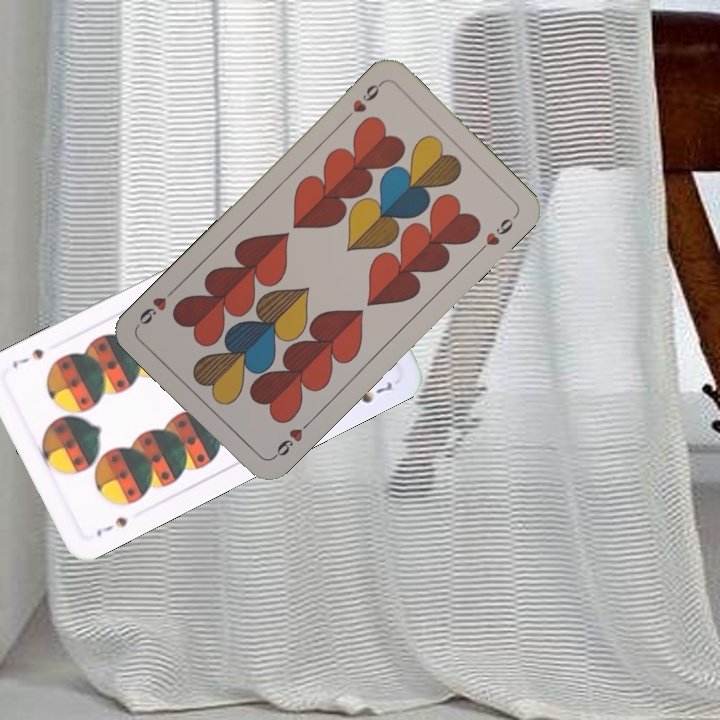H9: (267, 416, 314, 462), (340, 78, 386, 124)
S7: (92, 512, 130, 540)
